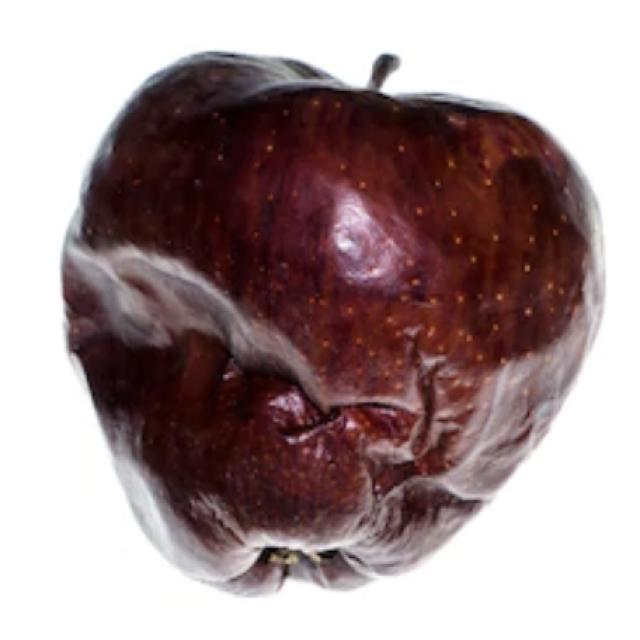Rotten: (55, 45, 605, 595)
